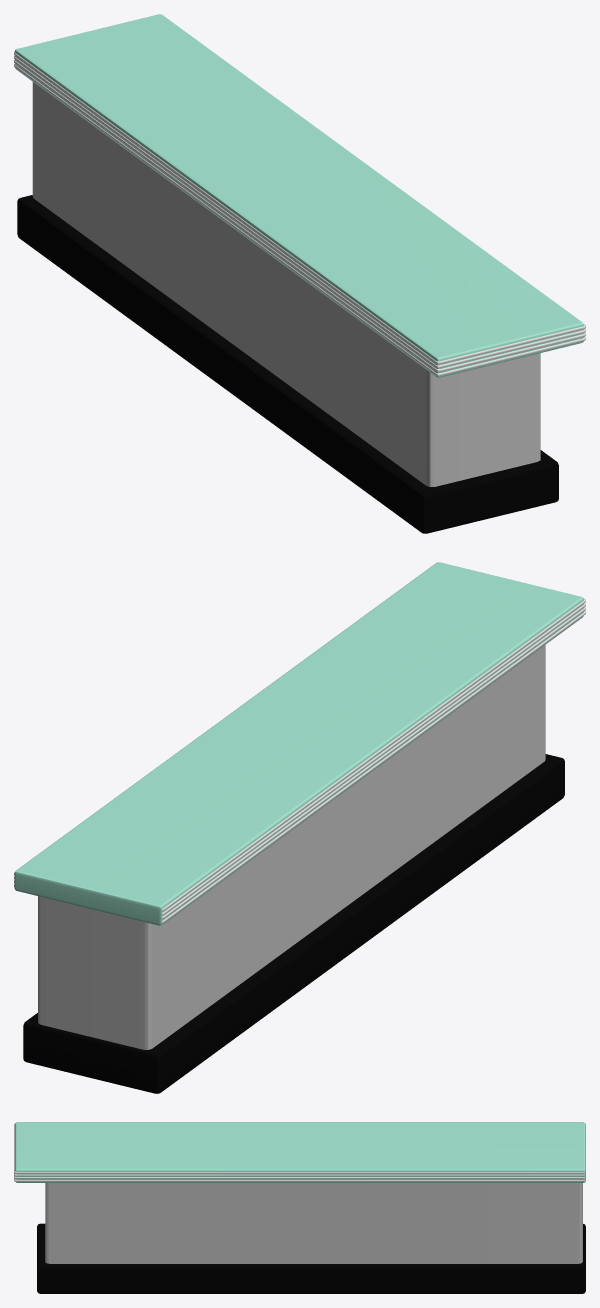
Rendered from kitchen_bar_long.fbx.
3 renders of one model, top to bottom at view 1: azimuth 30°, elevation 25°; view 2: azimuth 150°, elevation 25°; view 3: azimuth 270°, elevation 25°, orthographic. The views are drawn at different scales.
Parts seen in each view (by area): view 1: pCube1, pasted__pCube1, pasted__pasted__pCube1, pCube2, pCube4, pCube5, pCube3; view 2: pCube1, pasted__pCube1, pasted__pasted__pCube1, pCube2, pCube3, pCube5, pCube4; view 3: pasted__pCube1, pCube1, pasted__pasted__pCube1, pCube5, pCube2, pCube3, pCube4.
Boxes of the visible parts, left/top/right/bottom form: pCube1: left=14, top=14, right=584, bottom=377; pasted__pCube1: left=32, top=82, right=540, bottom=486; pasted__pasted__pCube1: left=17, top=195, right=558, bottom=533; pCube2: left=14, top=52, right=585, bottom=364; pCube4: left=14, top=60, right=585, bottom=371; pCube5: left=14, top=56, right=585, bottom=368; pCube3: left=14, top=64, right=585, bottom=375; pCube1: left=14, top=562, right=583, bottom=925; pasted__pCube1: left=38, top=645, right=545, bottom=1049; pasted__pasted__pCube1: left=23, top=754, right=564, bottom=1093; pCube2: left=14, top=598, right=585, bottom=911; pCube3: left=14, top=611, right=585, bottom=923; pCube5: left=14, top=603, right=585, bottom=915; pCube4: left=14, top=607, right=585, bottom=919; pasted__pCube1: left=45, top=1183, right=582, bottom=1263; pCube1: left=15, top=1122, right=585, bottom=1182; pasted__pasted__pCube1: left=37, top=1223, right=585, bottom=1293; pCube5: left=14, top=1173, right=584, bottom=1176; pCube2: left=14, top=1123, right=584, bottom=1173; pCube3: left=14, top=1178, right=584, bottom=1181; pCube4: left=14, top=1176, right=584, bottom=1178.
Size of the model in its own units: 1.7 by 2.06 by 8.37.
